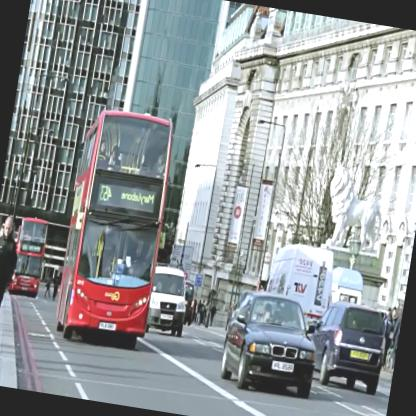bus: (52, 106, 178, 352), (8, 216, 48, 298)
car: (218, 289, 323, 401), (303, 300, 391, 394), (144, 264, 192, 340)
truck: (261, 240, 338, 334)
